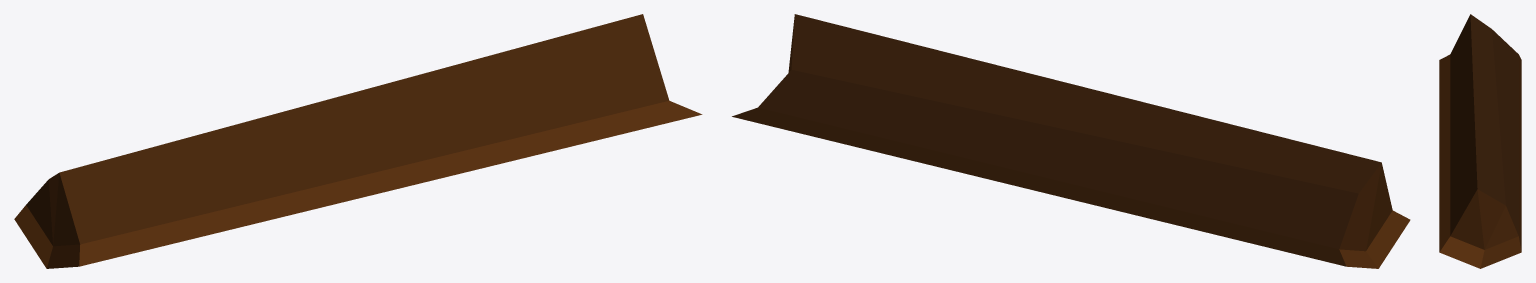
Rendered from log_01.fbx.
3 renders of one model, left to right at view 1: azimuth 30°, elevation 25°; view 2: azimuth 150°, elevation 25°; view 3: azimuth 270°, elevation 25°, orthographic. The views are drawn at different scales.
Parts seen in each view (by area): view 1: log_01; view 2: log_01; view 3: log_01.
Boxes of the visible parts, box(x1,y1,x2,y2) form: log_01: box(14, 14, 702, 268); log_01: box(732, 14, 1410, 268); log_01: box(1439, 14, 1521, 268).
Bounding box in the file's own units: 0.902 × 0.1545 × 0.1628.
